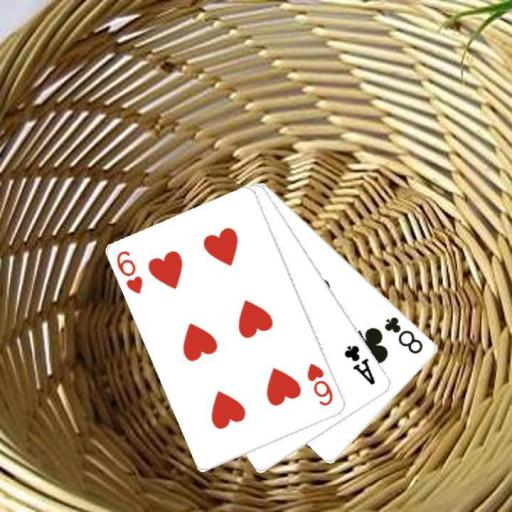6H: (113, 247, 145, 296), (304, 360, 335, 408)
8C: (381, 313, 425, 355)
AC: (341, 341, 378, 387)
